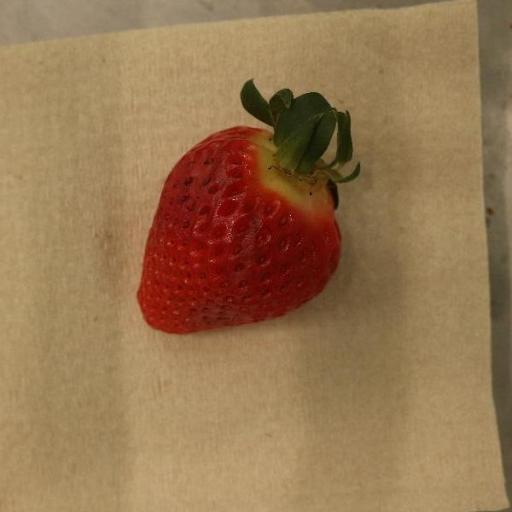Strawberry: (137, 80, 362, 336)
